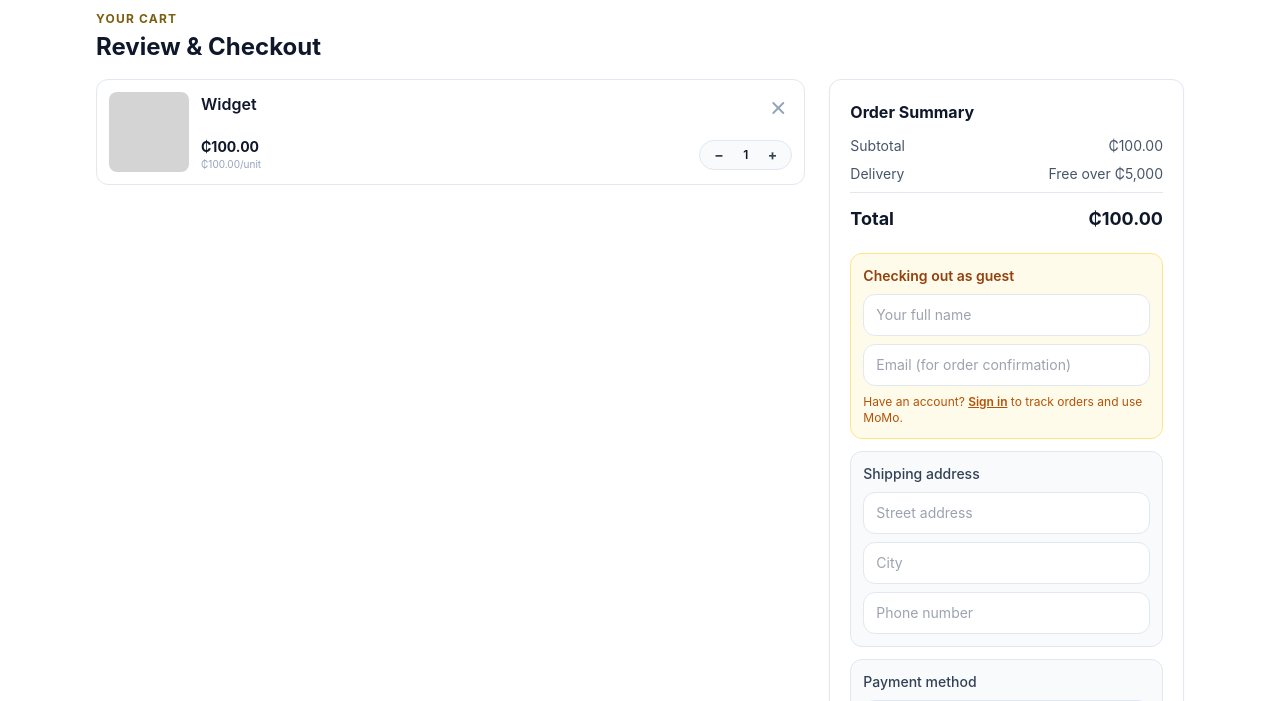
Test: Cart checkout validation › requires guest name/email once shipping is filled
Step 1. Type "1 Test St" into the field with placeholder "Street address" → [1007, 513], box [863, 492, 1150, 534]
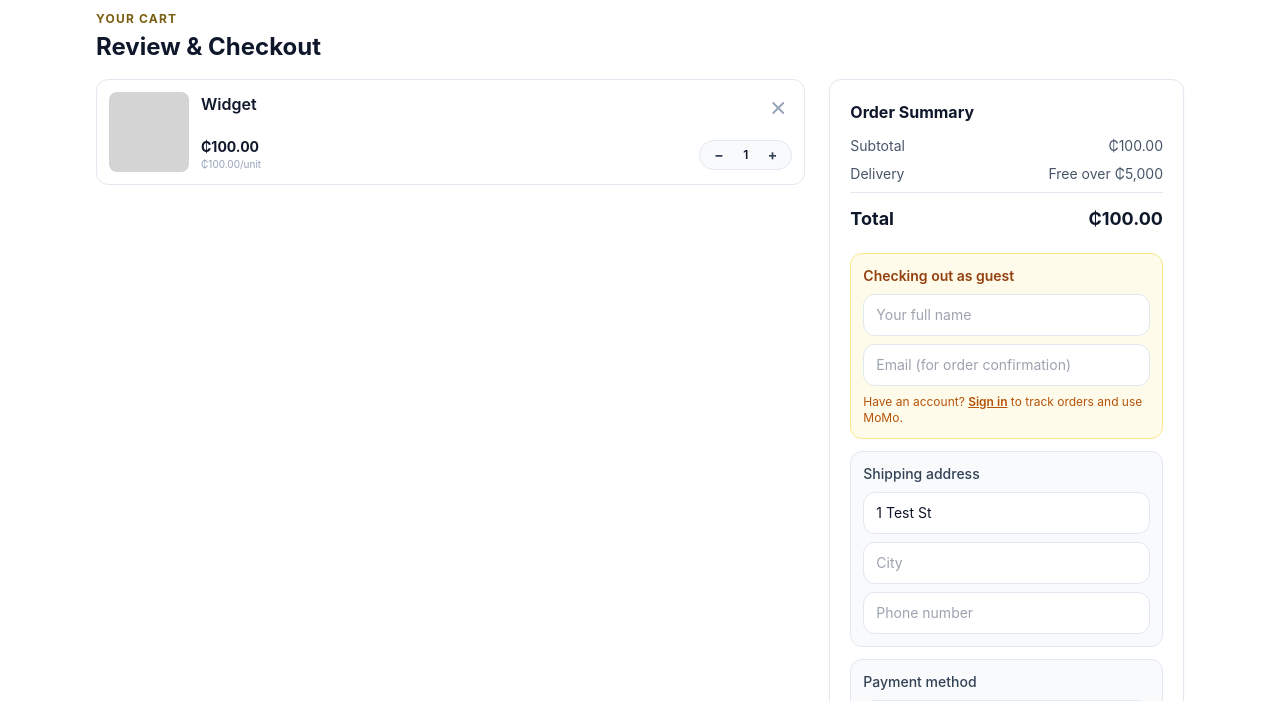
Step 2. Type "Kumasi" into the field with placeholder "City" → [1007, 563], box [863, 542, 1150, 584]
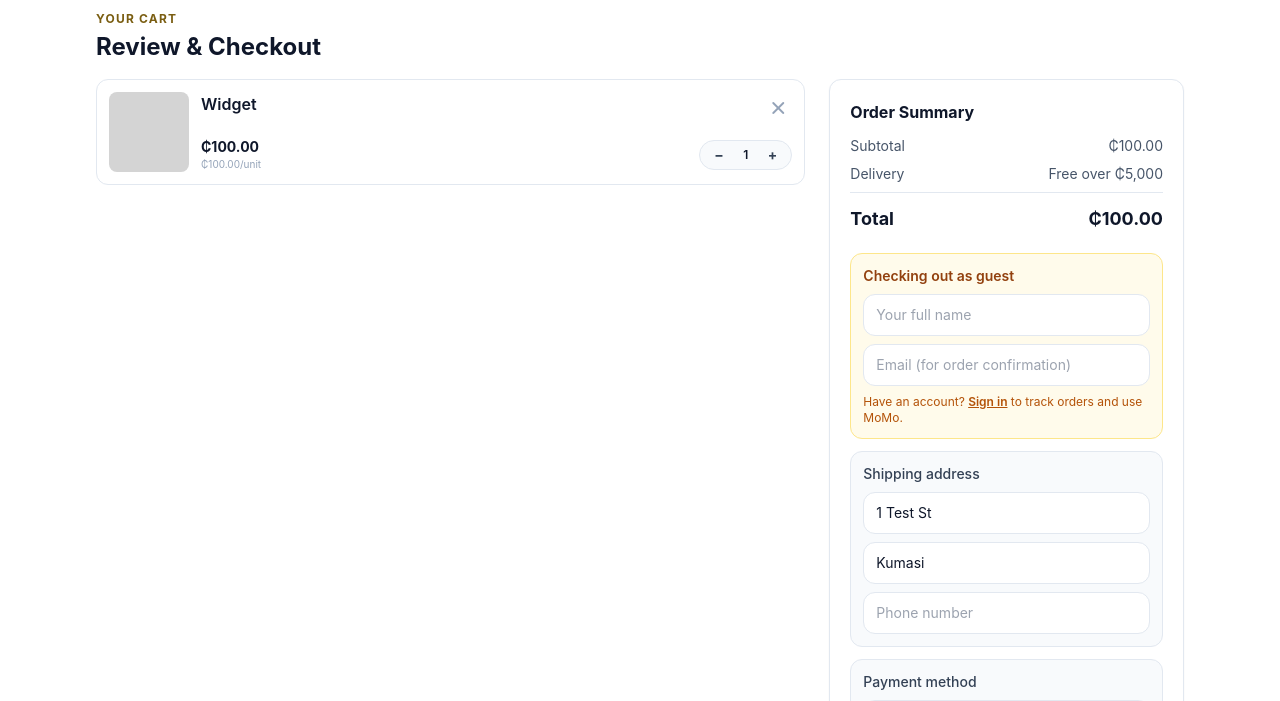
Step 3. Type "0240000000" into the field with placeholder "Phone number" → [1007, 613], box [863, 592, 1150, 634]
(page scrolled)
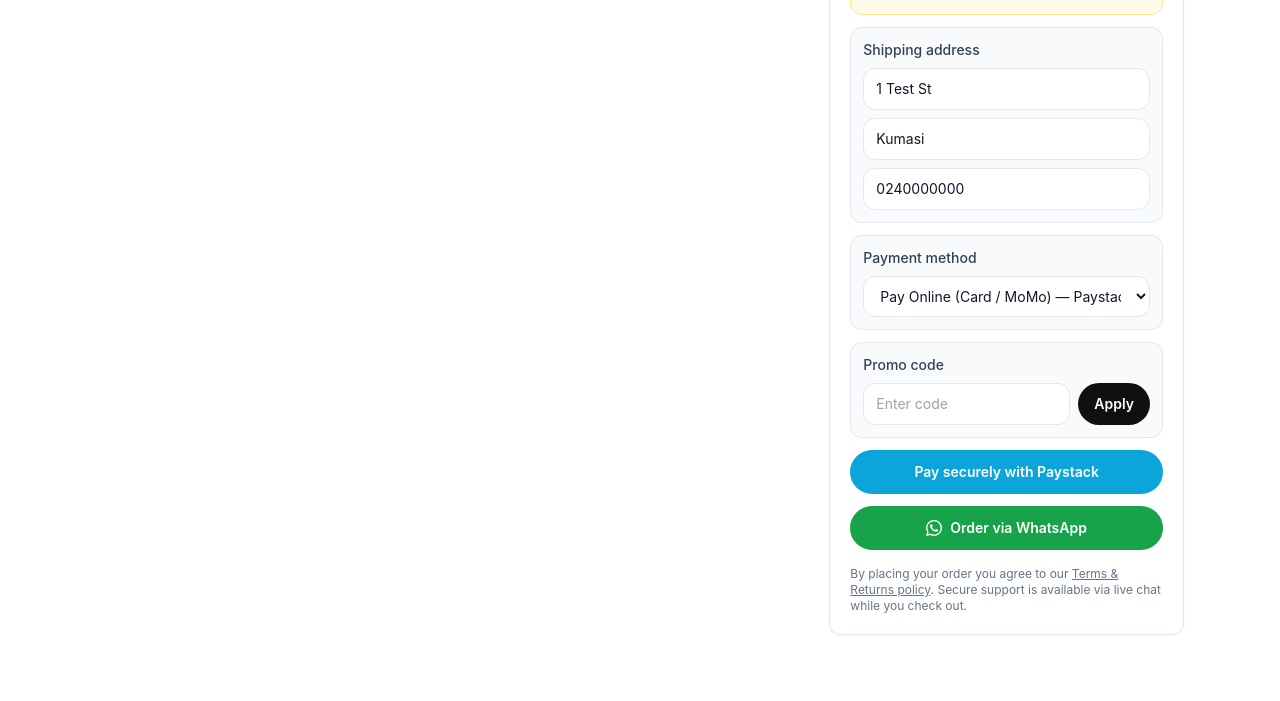
Step 4. Click the button "Pay securely with Paystack" → [1007, 472], box [850, 450, 1163, 494]
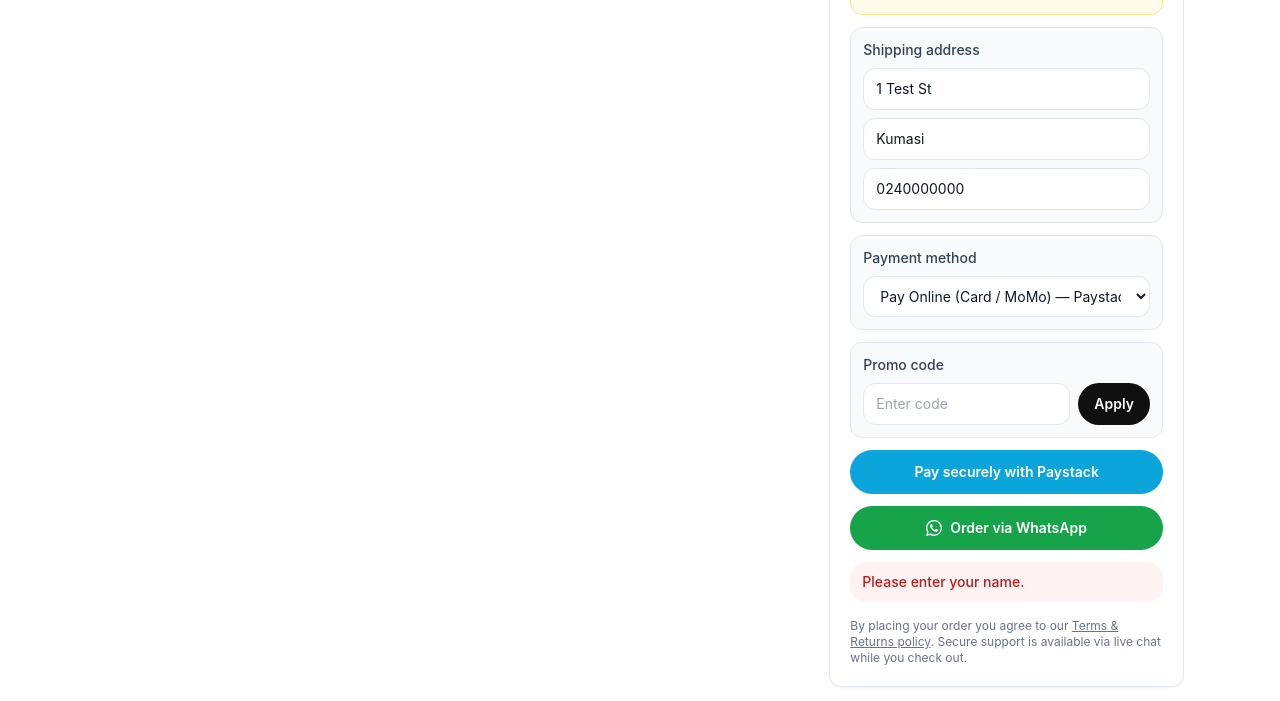
Now the text "Please enter your name." is shown, box [850, 562, 1163, 602]
